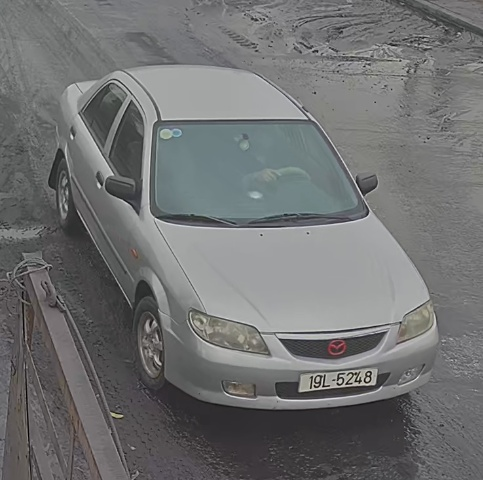vehicle plate: (296, 368, 380, 392)
